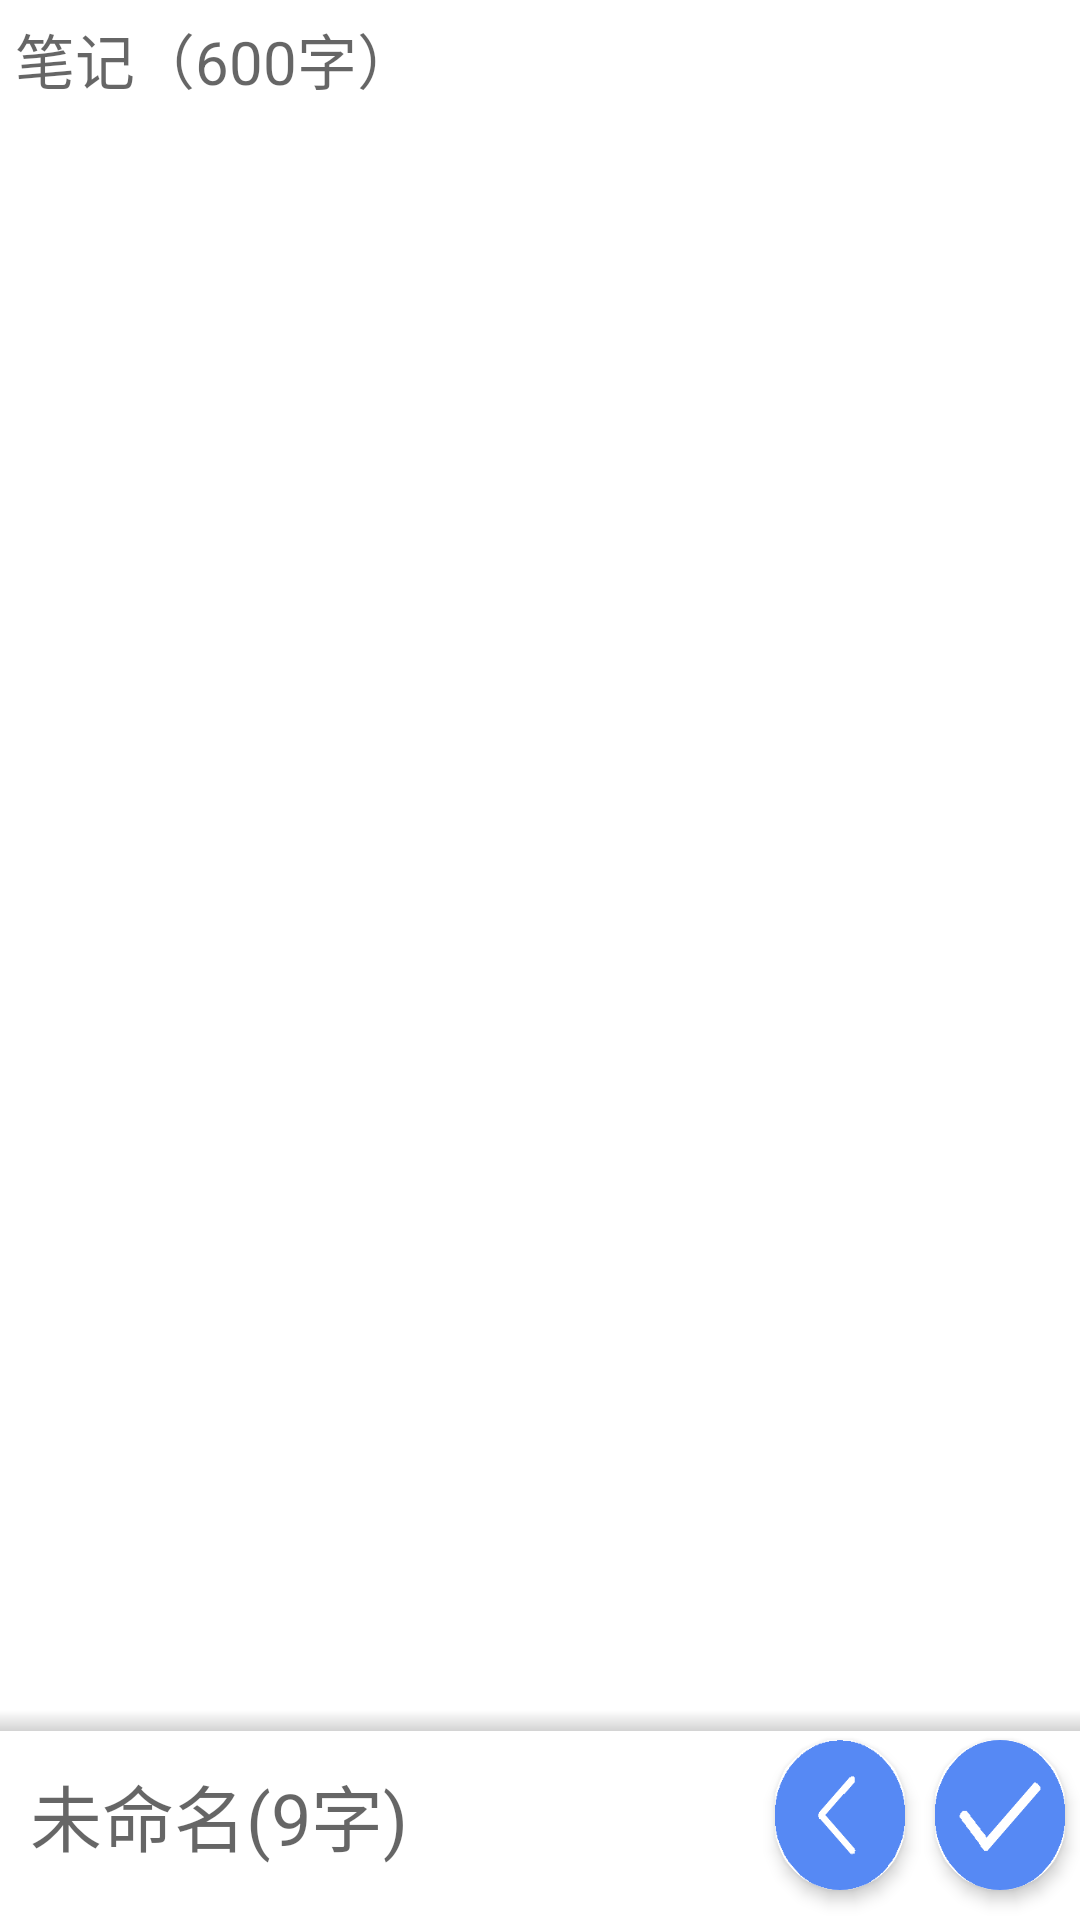

Named icons in this screenshot (1080*1920) and their centers, (x=x, y=y):
back: (x=840, y=1815)
